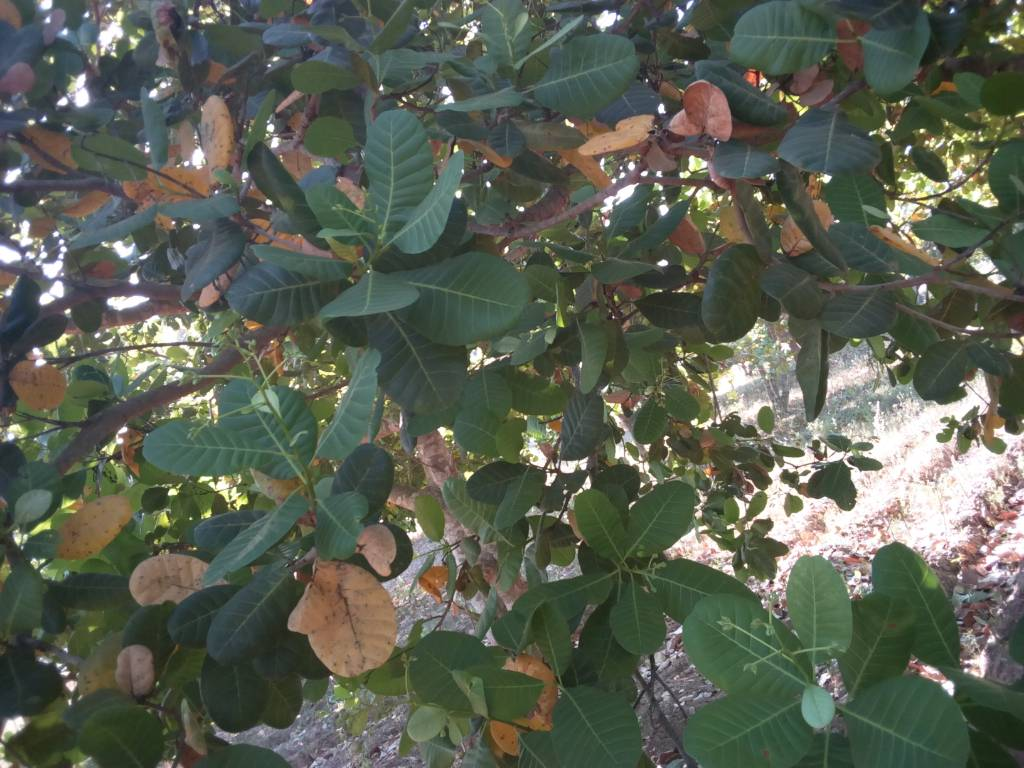Anthracnose: (292, 558, 397, 676), (54, 494, 133, 565), (702, 247, 759, 342), (127, 556, 228, 599), (578, 112, 660, 159), (195, 91, 232, 183), (680, 79, 732, 136), (8, 362, 67, 409)
